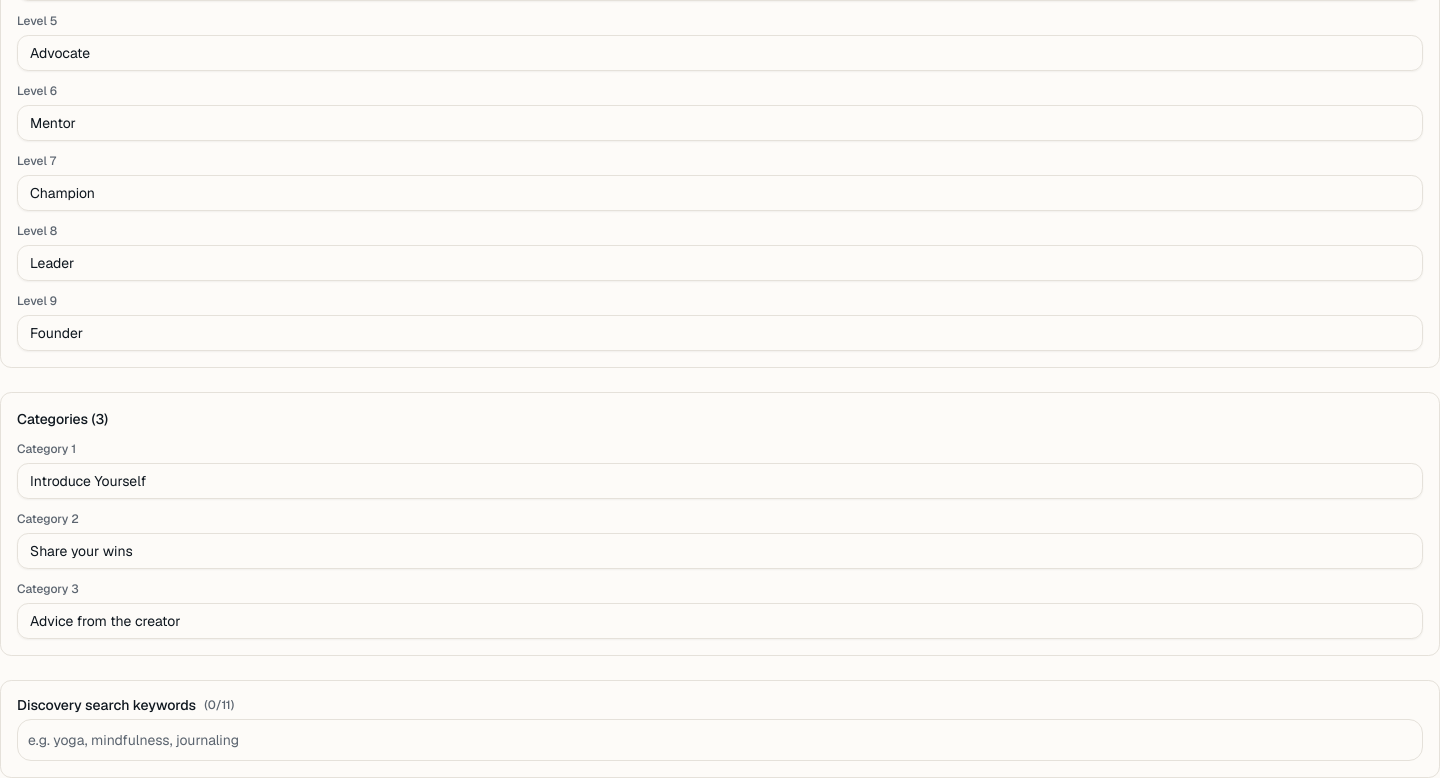
Step5AddOns › discovery keyword input accepts an Enter-committed chip
(page scrolled)
Type "yoga" into the field labelled "Discovery search keywords (0/11)" at (720, 740), box [24,726,1416,754]
Then press Enter
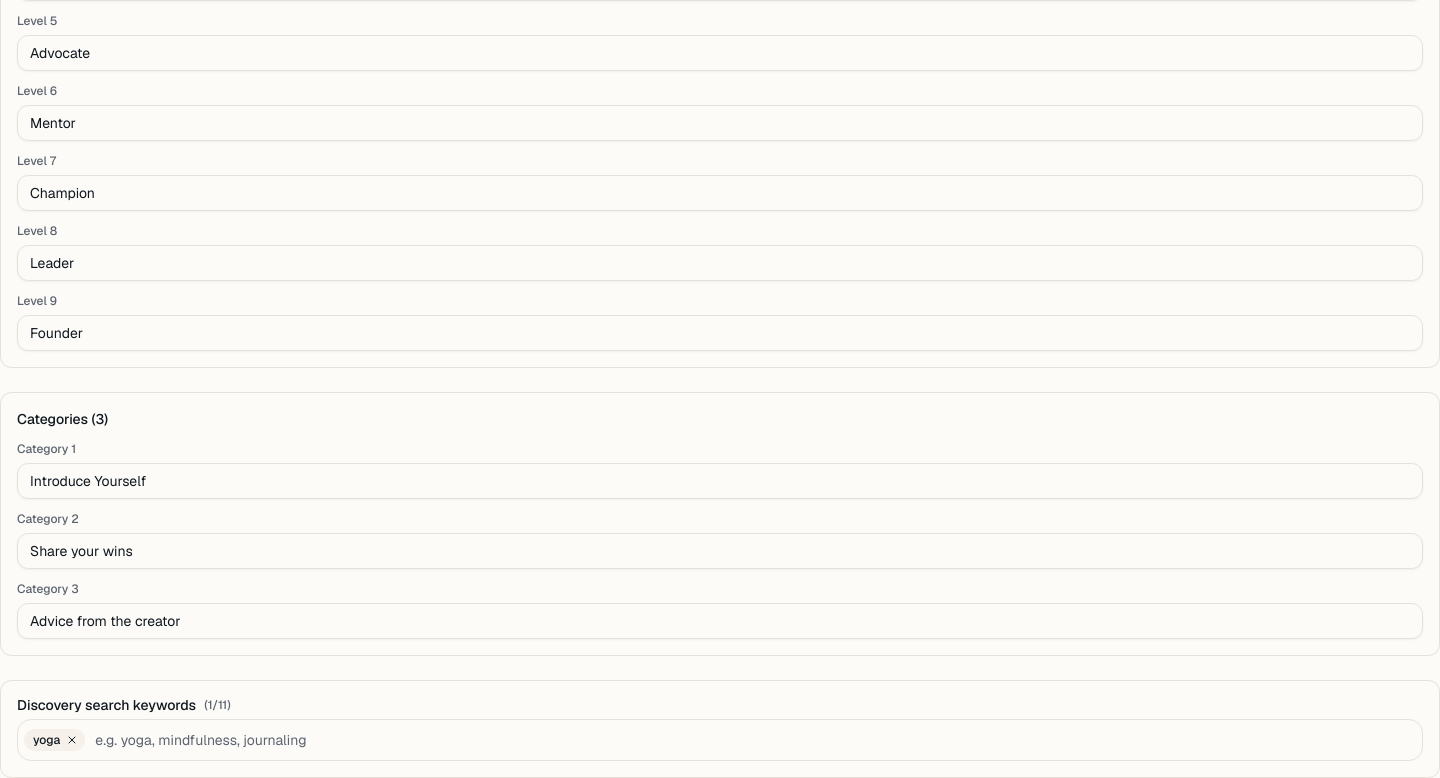
Check: the field labelled "Discovery search keywords (1/11)" is empty, box [91,726,1416,754]
Check: the text "yoga" is shown, box [33,732,60,748]
